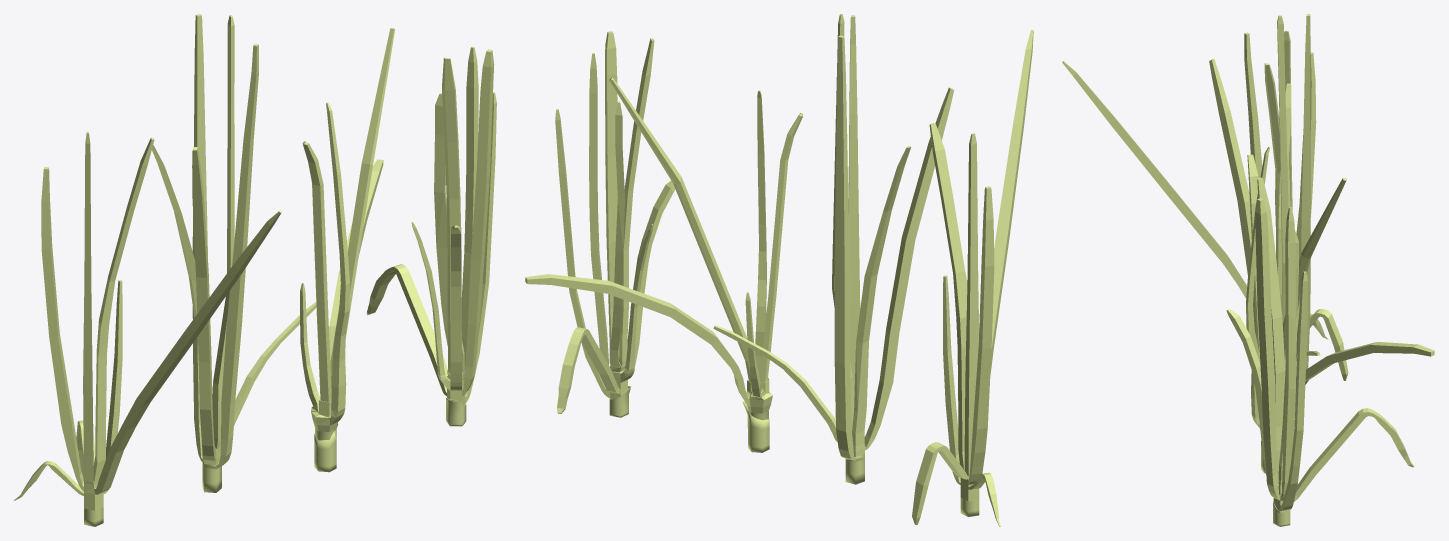
The model's file is onion.dae.
3 renders of one model, left to right at view 1: azimuth 30°, elevation 25°; view 2: azimuth 150°, elevation 25°; view 3: azimuth 270°, elevation 25°, orthographic. The views are drawn at different scales.
Visible parts, largest first — view 1: garden bed.009; view 2: garden bed.009; view 3: garden bed.009.
Boxes of the visible parts, x1,y1,x2,y2 form: garden bed.009: (14,14,496,526); garden bed.009: (525,14,1033,526); garden bed.009: (1062,14,1434,526).
Bounding box in the file's own units: 0.3898 × 0.3031 × 0.3776.
